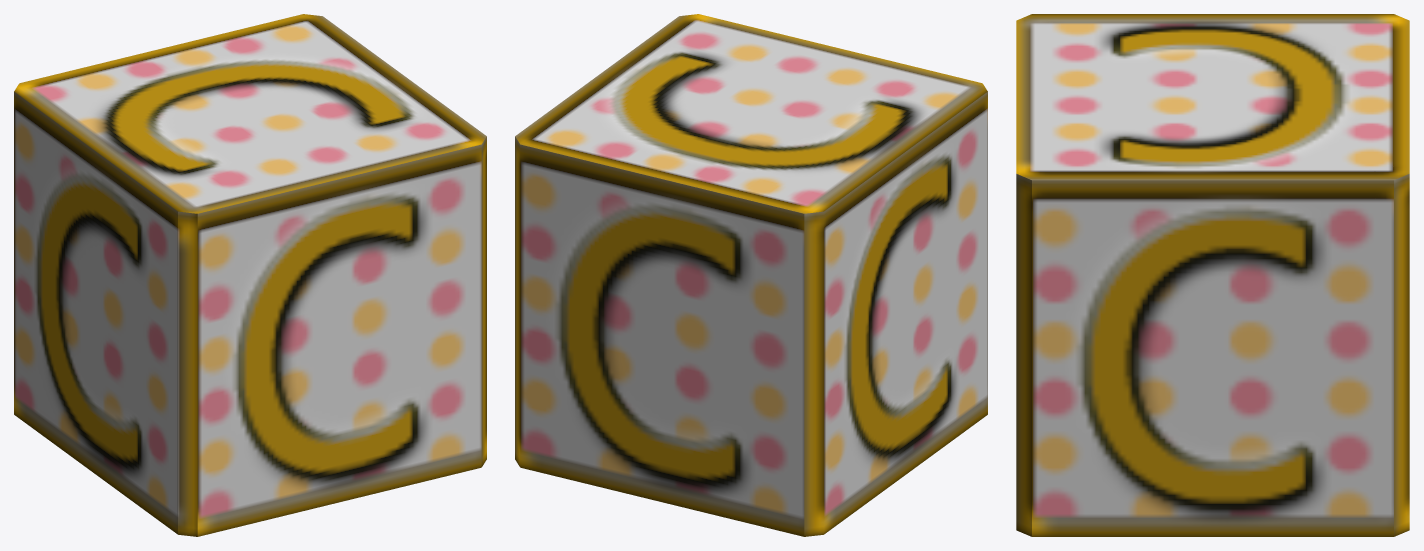
The model's file is Block_C.FBX.
3 views of the same model, side by side, from view 1: azimuth 30°, elevation 25°; view 2: azimuth 150°, elevation 25°; view 3: azimuth 270°, elevation 25° (orthographic). The views are drawn at different scales.
Visible parts, largest first — view 1: Block; view 2: Block; view 3: Block.
Boxes of the visible parts, left/top/right/bottom form: Block: left=14, top=14, right=486, bottom=536; Block: left=515, top=14, right=987, bottom=536; Block: left=1016, top=14, right=1409, bottom=536.
Size of the model in its own units: 25 by 25 by 25.
